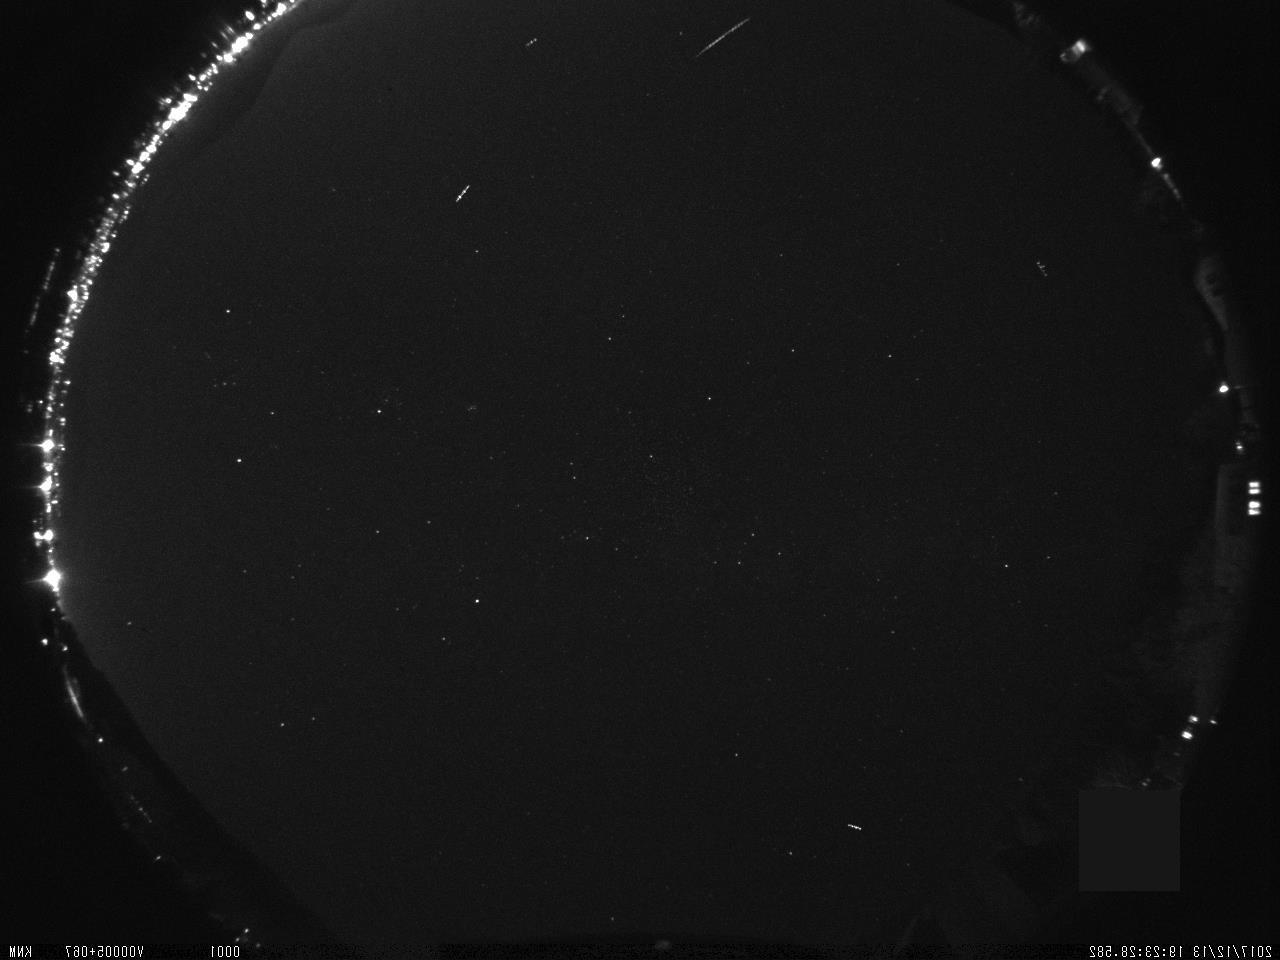satelite: (687, 9, 754, 71), (447, 176, 477, 214), (522, 30, 544, 52)
